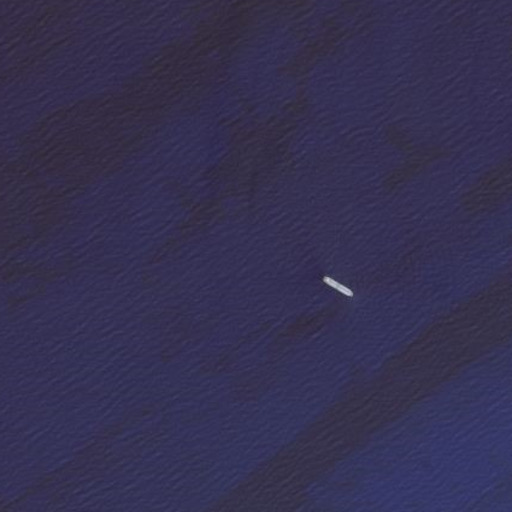ship: (318, 273, 356, 300)
